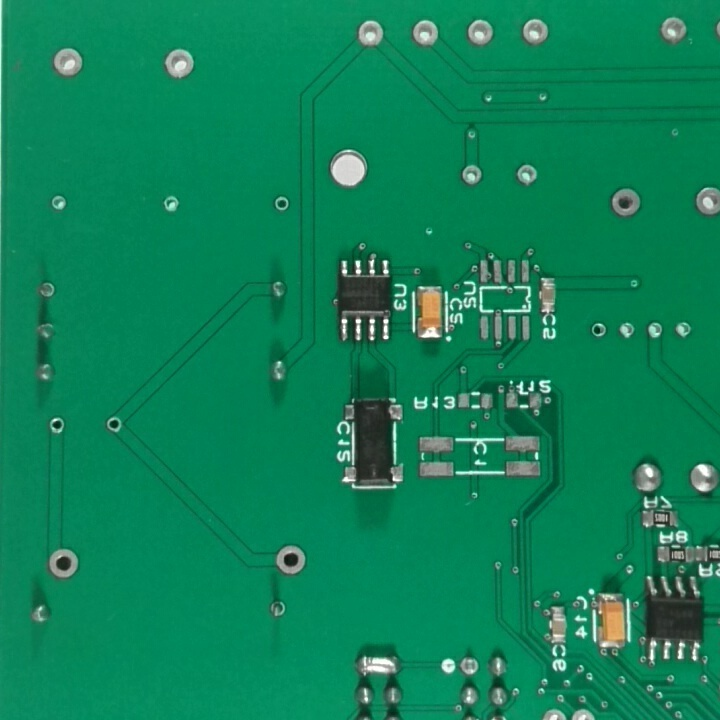F: (47, 43, 85, 82), (607, 182, 645, 221), (160, 45, 197, 84), (45, 545, 81, 581), (272, 541, 306, 578), (353, 15, 387, 50), (407, 15, 442, 49), (690, 182, 720, 220), (519, 15, 552, 48), (657, 13, 690, 46), (464, 15, 496, 49), (456, 160, 487, 187), (512, 161, 540, 189), (264, 595, 288, 622), (36, 278, 59, 303), (456, 655, 479, 679), (159, 192, 182, 215), (47, 191, 69, 215), (46, 415, 70, 437), (644, 318, 665, 343), (674, 317, 693, 343), (103, 414, 125, 436), (273, 193, 291, 218), (617, 318, 635, 340), (590, 320, 607, 341)
P: (354, 649, 404, 680)
